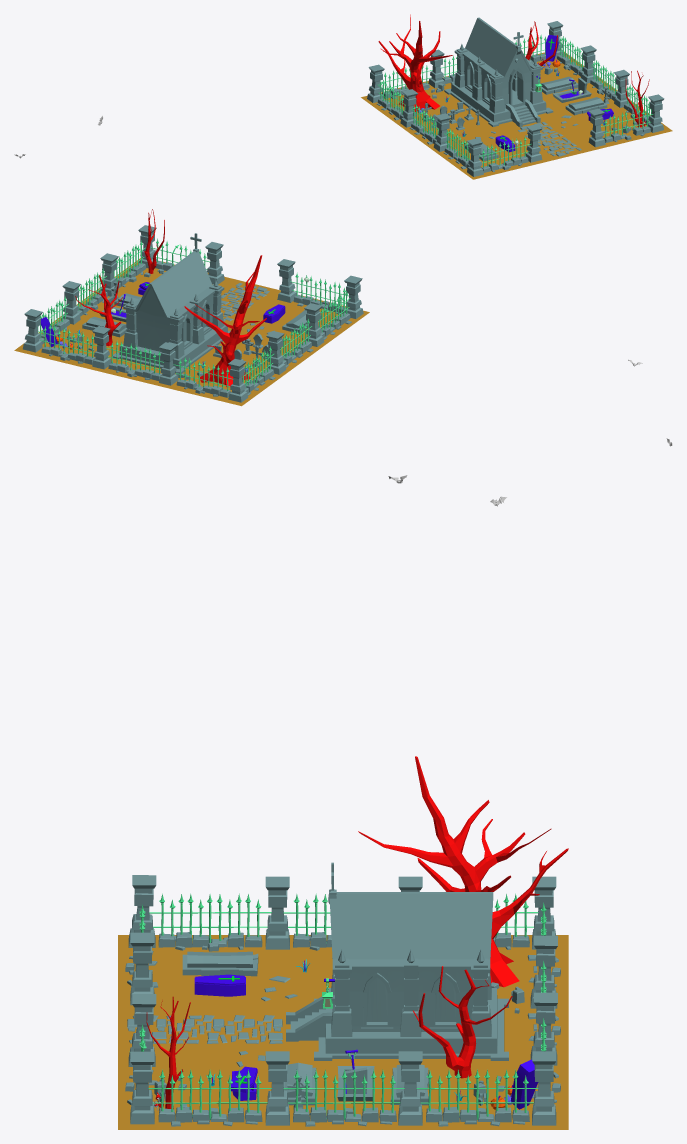
The model's file is low_poly_graveyard.glb.
The picture shows the model from 3 angles, top to bottom: view 1: azimuth 30°, elevation 25°; view 2: azimuth 150°, elevation 25°; view 3: azimuth 270°, elevation 25°; orthographic projection. The views are drawn at different scales.
Parts seen in each view (by area): view 1: Plane001.001, Crypt.001, DeadTree, FenceSection.001, Tiles001.001, FenceSection002.002, FenceSection017.001, FenceSection018.001, FenceSection019.001, FenceSection009, FenceSection010, Column.002 (+19 smaller); view 2: Plane001.001, Crypt.001, DeadTree, FenceSection015.005, FenceSection013.003, FenceSection014.006, FenceSection.001, FenceSection017.001, FenceSection019.001, FenceSection018.001, FenceSection011.001, FenceSection010 (+18 smaller); view 3: Plane001.001, Crypt.001, DeadTree, FenceSection019.001, FenceSection010, FenceSection009, FenceSection011.001, Tiles001.001, DeadTree3, Grave_003.001, Column010, Column012 (+13 smaller).
Boxes of the visible parts, x1,y1,x2,y2 form: Plane001.001: (361, 51, 672, 179); Crypt.001: (444, 17, 553, 127); DeadTree: (378, 14, 452, 111); FenceSection.001: (479, 136, 531, 172); Tiles001.001: (518, 122, 581, 156); FenceSection002.002: (601, 106, 653, 142); FenceSection017.001: (376, 80, 405, 120); FenceSection018.001: (409, 104, 438, 144); FenceSection019.001: (443, 128, 471, 169); FenceSection009: (557, 36, 584, 76); FenceSection010: (590, 60, 618, 100); Column.002: (467, 138, 483, 176); Plane001.001: (14, 258, 369, 406); Crypt.001: (112, 233, 230, 373); DeadTree: (184, 255, 266, 387); FenceSection015.005: (173, 357, 233, 397); FenceSection013.003: (38, 323, 96, 364); FenceSection014.006: (105, 340, 163, 380); FenceSection.001: (290, 272, 348, 314); FenceSection017.001: (242, 346, 275, 395); FenceSection019.001: (318, 290, 351, 339); FenceSection018.001: (280, 318, 313, 367); FenceSection011.001: (113, 240, 146, 288); FenceSection010: (76, 268, 107, 316); Plane001.001: (118, 935, 568, 1129); Crypt.001: (286, 862, 508, 1060); DeadTree: (358, 756, 568, 987); FenceSection019.001: (149, 893, 271, 951); FenceSection010: (283, 1069, 404, 1126); FenceSection009: (416, 1069, 538, 1126); FenceSection011.001: (148, 1069, 271, 1126); Tiles001.001: (127, 1015, 282, 1043); DeadTree3: (413, 966, 512, 1078); Grave_003.001: (182, 951, 258, 976); Column010: (532, 1051, 556, 1125); Column012: (265, 1051, 289, 1125).
Size of the model in its own units: 29.41 by 4.97 by 10.22.
